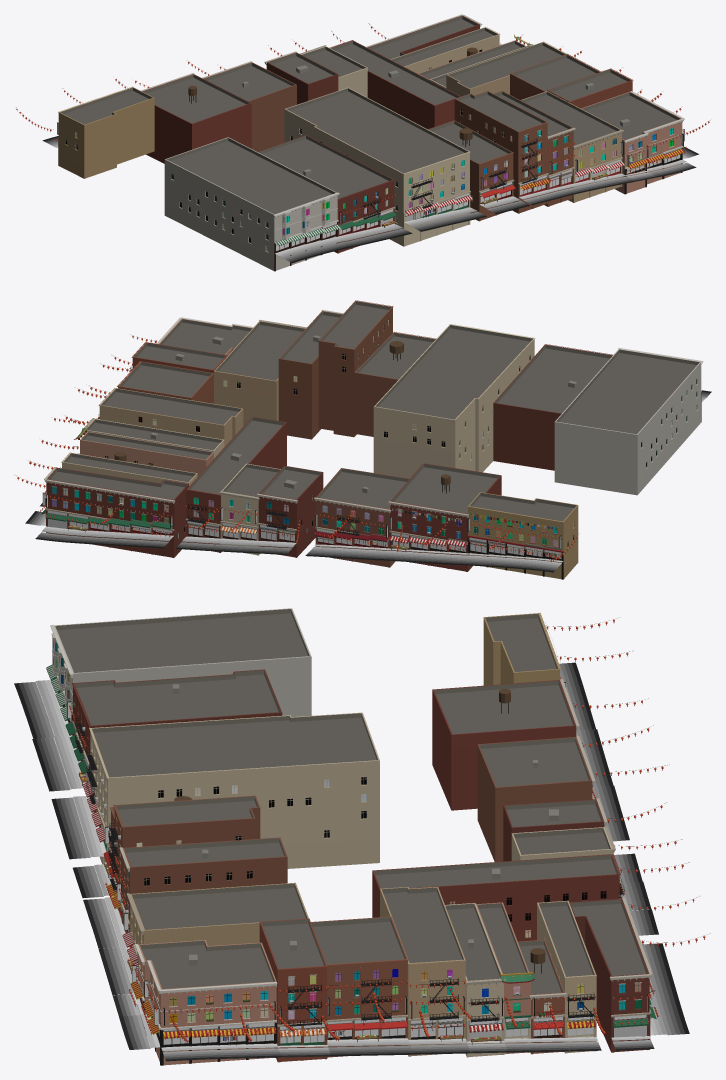
3 views of the same model, one above another, from view 1: azimuth 30°, elevation 25°; view 2: azimuth 150°, elevation 25°; view 3: azimuth 270°, elevation 25° (orthographic). The views are drawn at different scales.
Parts seen in each view (by area): view 1: L0_roof, L0_stucco, L0_d_brickred, L0_brickred, L0_brick, L0_stone, L0_ground, L0_d_stucco, L0_d_metal, L0_d_fabric, L0_cwin, L0_d_brick (+6 smaller); view 2: L0_roof, L0_brickred, L0_brick, L0_stucco, L0_stone, L0_d_brickred, L0_ground, L0_d_stucco, L0_d_metal, L0_d_fabric, L0_cwin, L0_clear (+6 smaller); view 3: L0_roof, L0_brickred, L0_ground, L0_brick, L0_stone, L0_d_metal, L0_stucco, L0_d_brickred, L0_d_stucco, L0_d_fabric, L0_d_brick, L0_cwin (+8 smaller).
Boxes of the visible parts, left/top/right/bottom form: L0_roof: left=60, top=16, right=680, bottom=214; L0_stucco: left=58, top=112, right=682, bottom=270; L0_d_brickred: left=146, top=24, right=569, bottom=253; L0_brickred: left=266, top=63, right=632, bottom=252; L0_brick: left=284, top=34, right=621, bottom=246; L0_stone: left=57, top=14, right=684, bottom=243; L0_ground: left=42, top=136, right=698, bottom=263; L0_d_stucco: left=84, top=98, right=673, bottom=234; L0_d_metal: left=16, top=23, right=705, bottom=252; L0_d_fabric: left=17, top=28, right=708, bottom=246; L0_cwin: left=282, top=128, right=673, bottom=234; L0_d_brick: left=338, top=68, right=617, bottom=209; L0_roof: left=48, top=301, right=699, bottom=521; L0_brickred: left=46, top=307, right=467, bottom=571; L0_brick: left=99, top=339, right=534, bottom=554; L0_stucco: left=80, top=348, right=701, bottom=579; L0_stone: left=44, top=300, right=703, bottom=552; L0_d_brickred: left=51, top=356, right=561, bottom=571; L0_ground: left=25, top=390, right=711, bottom=572; L0_d_stucco: left=473, top=422, right=637, bottom=546; L0_d_metal: left=43, top=335, right=577, bottom=560; L0_d_fabric: left=18, top=338, right=577, bottom=561; L0_cwin: left=52, top=487, right=557, bottom=546; L0_clear: left=69, top=521, right=561, bottom=558; L0_roof: left=55, top=609, right=647, bottom=994; L0_brickred: left=73, top=673, right=649, bottom=1061; L0_ground: left=14, top=662, right=689, bottom=1061; L0_brick: left=90, top=733, right=596, bottom=1056; L0_stone: left=50, top=608, right=652, bottom=1030; L0_d_metal: left=53, top=619, right=710, bottom=1047; L0_stucco: left=52, top=637, right=559, bottom=1065; L0_d_brickred: left=74, top=690, right=642, bottom=1053; L0_d_stucco: left=52, top=618, right=520, bottom=1023; L0_d_fabric: left=46, top=622, right=704, bottom=1043; L0_d_brick: left=91, top=741, right=612, bottom=1055; L0_cwin: left=53, top=641, right=641, bottom=1022.
Bounding box in the file's own units: 155 × 29.43 × 122.
